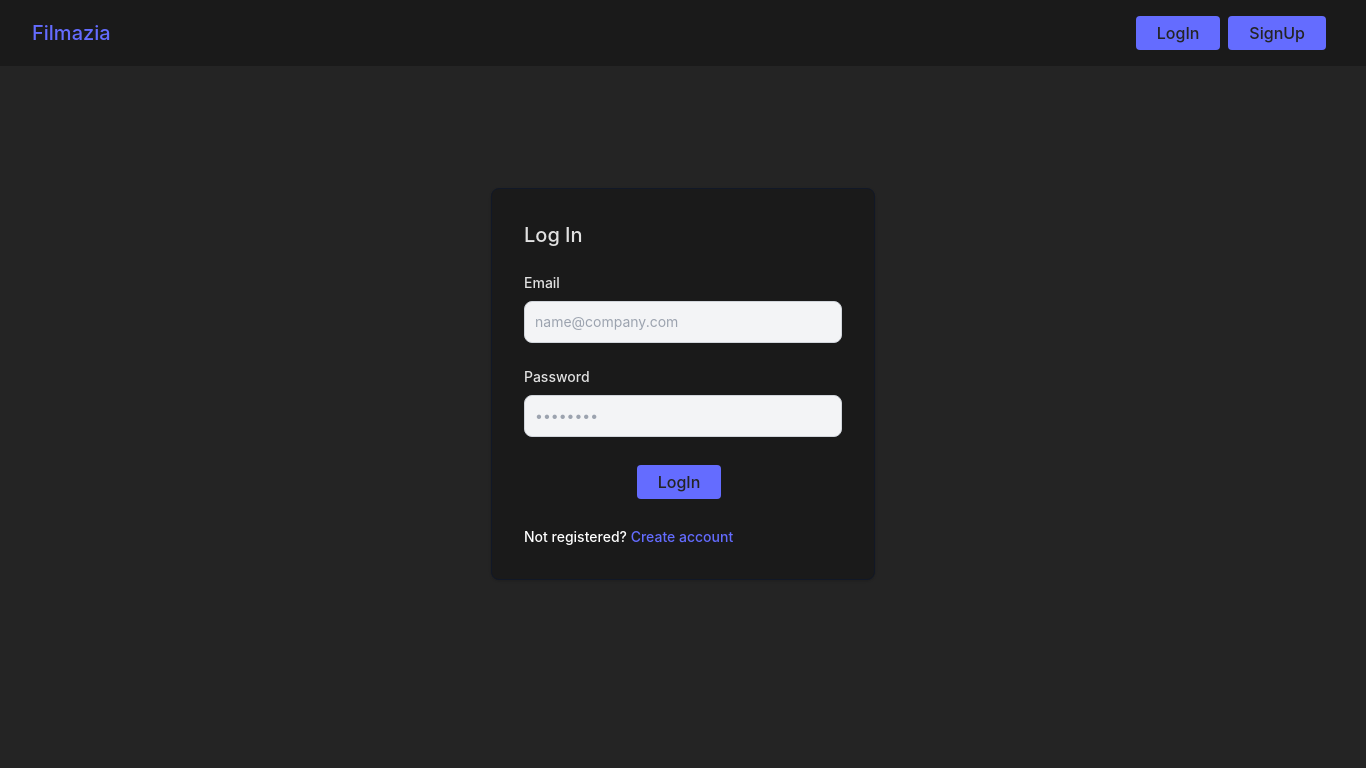
Test: LogIn Tests › Validation error for missing email
Click the button "LogIn" below "Password".
click(679, 482)  # box top-left (637, 465), bottom-right (721, 499)
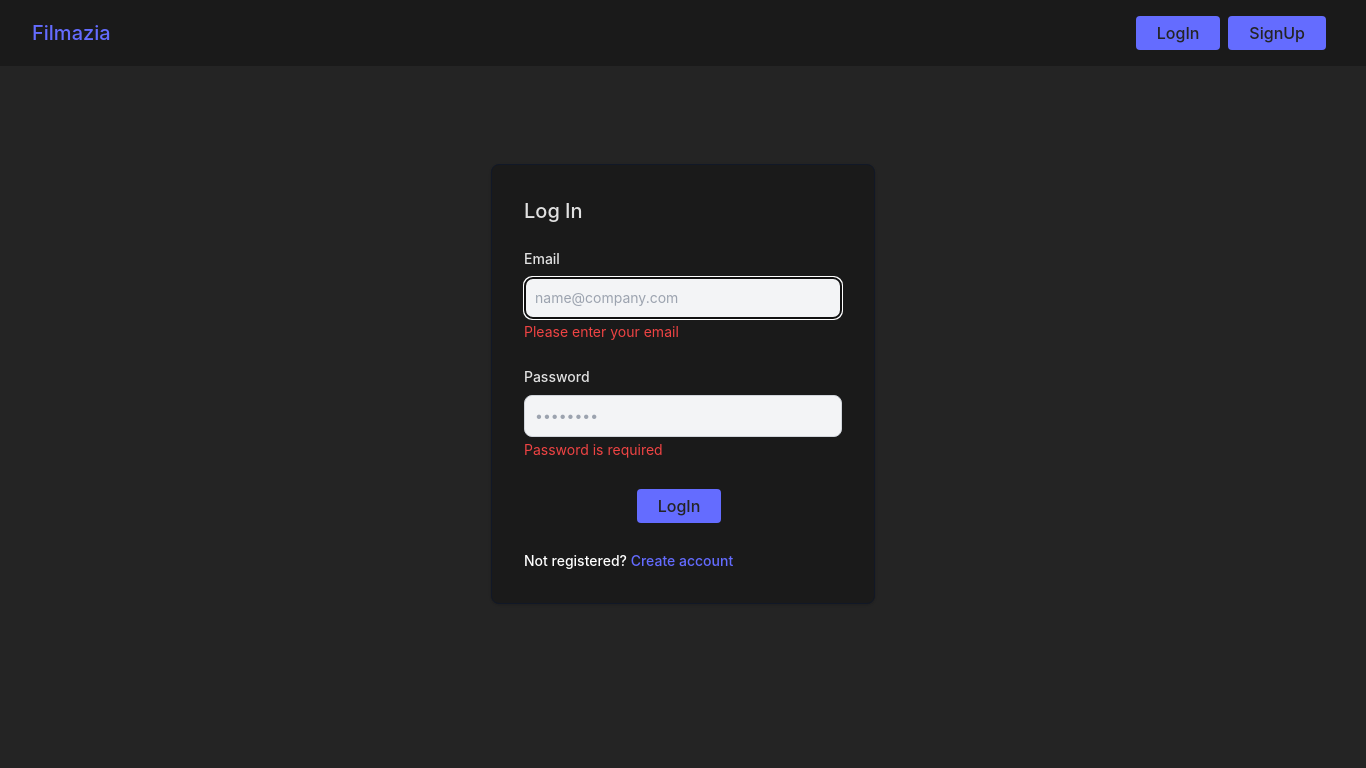
Expected: the text "Please enter your email" is shown, top-left (524, 323), bottom-right (679, 340)
